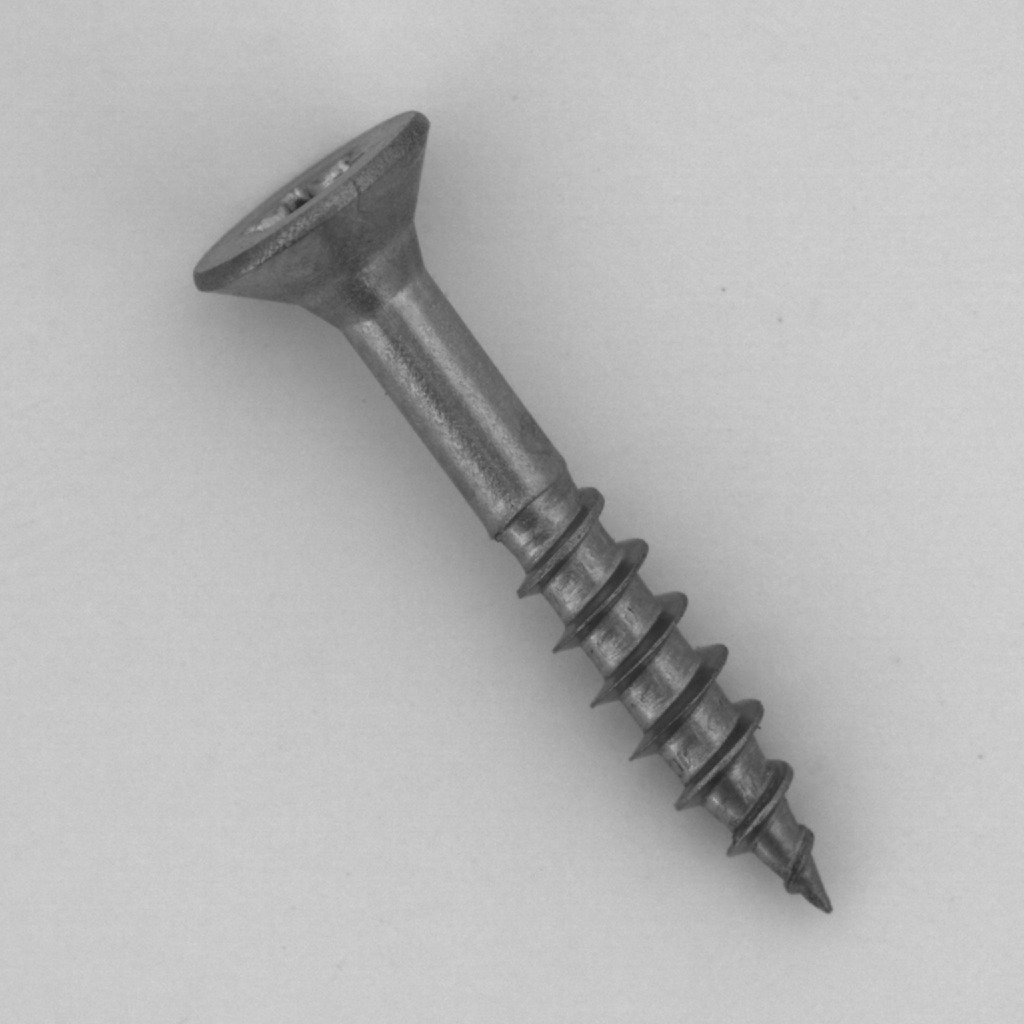good: (177, 94, 864, 939)
